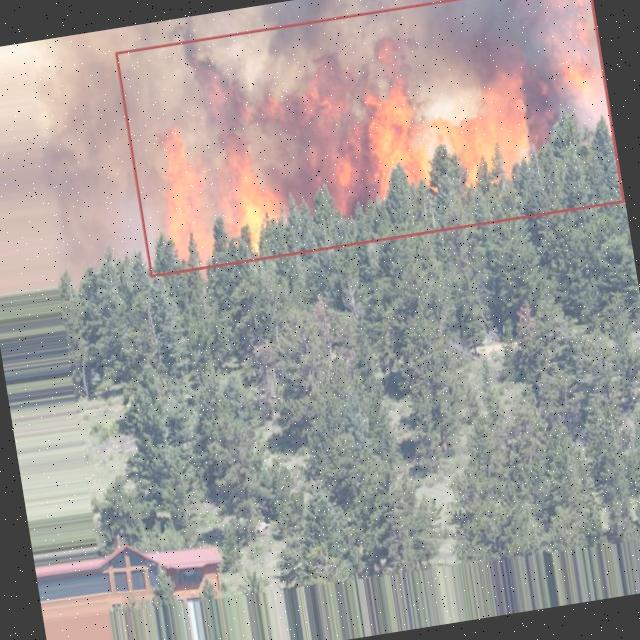fire: (116, 0, 625, 276)
